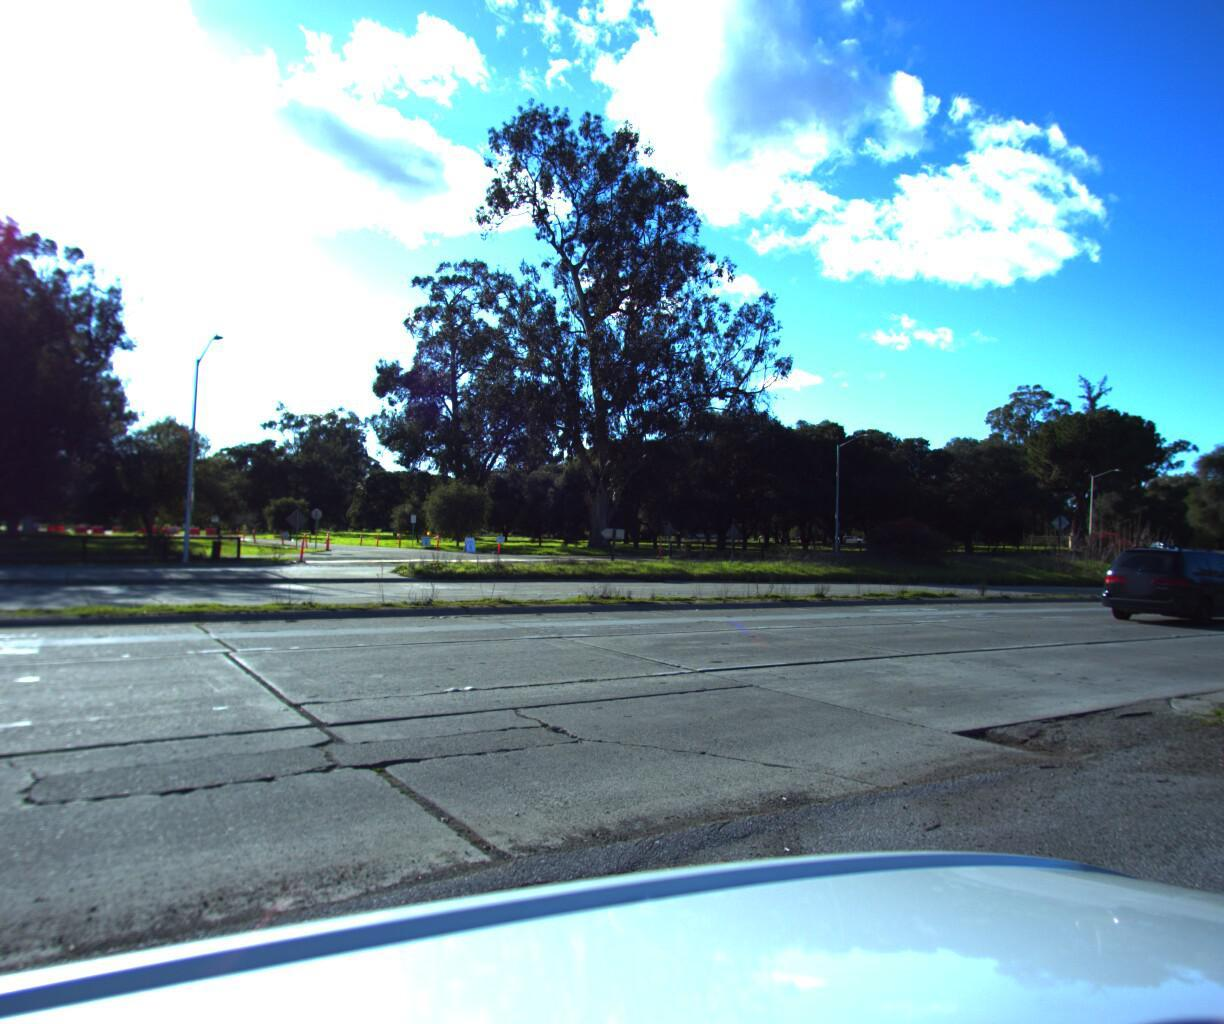car: (1087, 539, 1224, 625)
